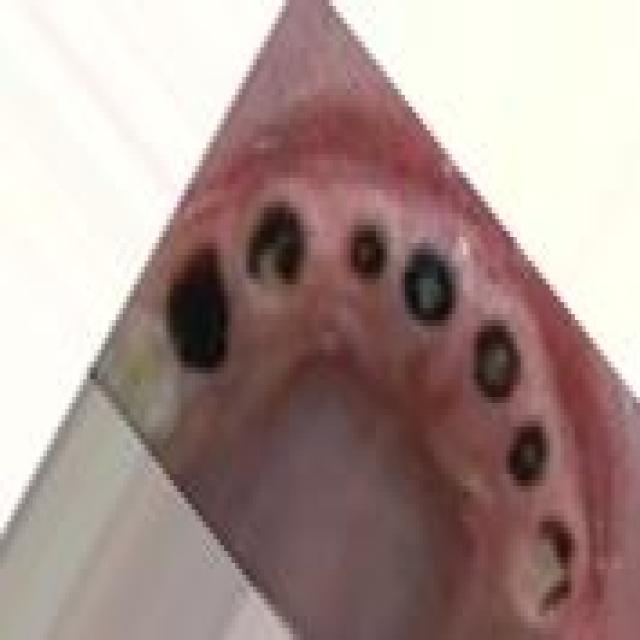caries: (161, 231, 234, 389), (240, 183, 322, 312), (506, 498, 582, 637), (325, 188, 395, 308), (395, 228, 465, 342), (463, 305, 530, 409), (499, 407, 553, 493)
